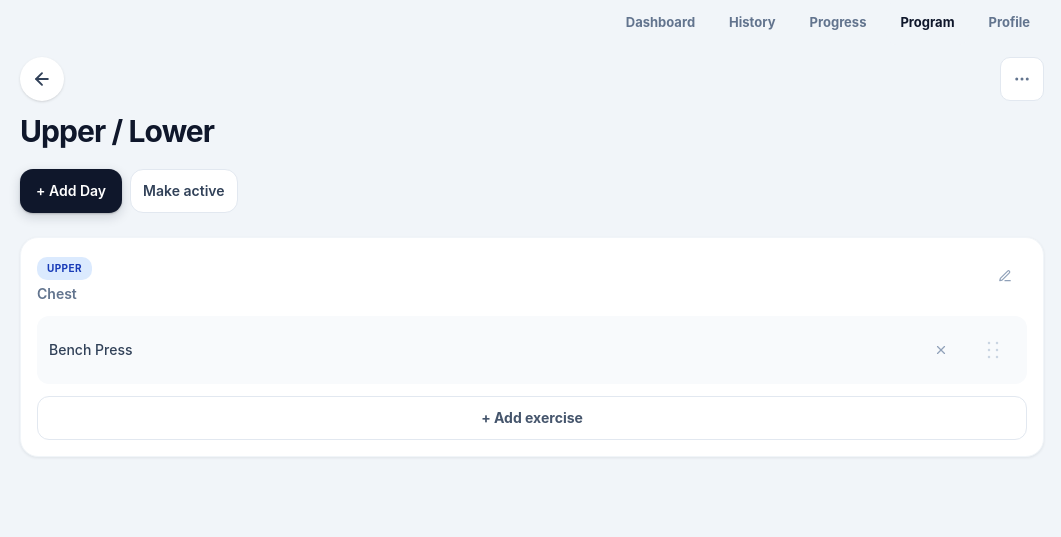
Test case: program editor page actions › blocks activation while an active workout is in progress
Click the button "Make active": (184, 191) [130,169,238,213]
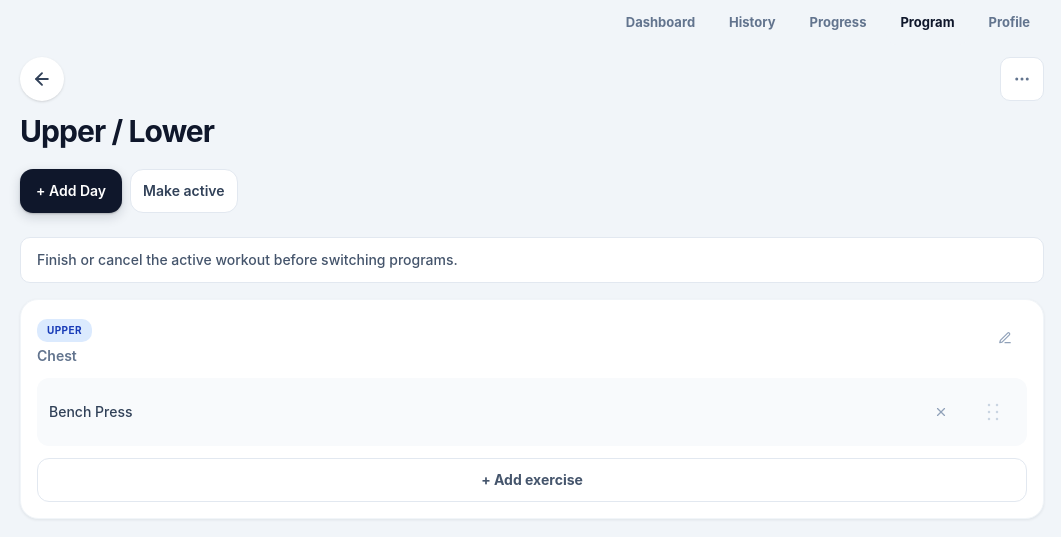
Expected: the message reads "Finish or cancel the active workout before switching programs.", [37,251,458,268]
